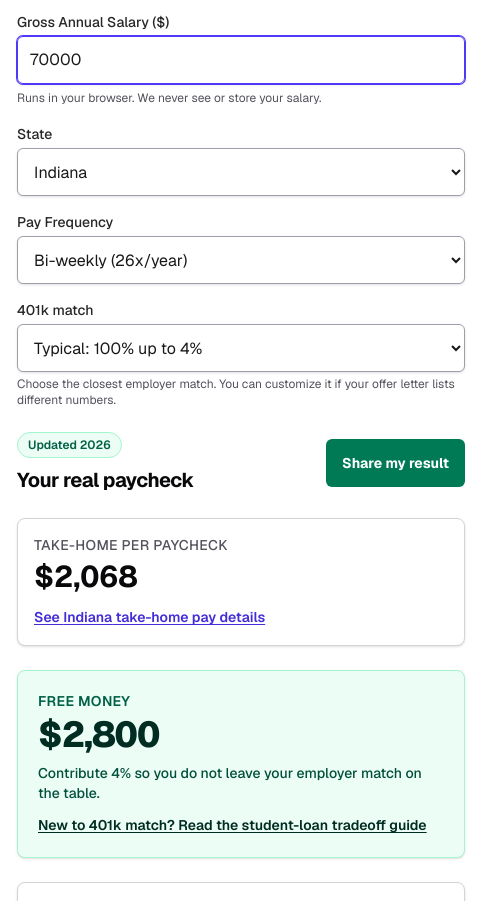
Test case: Calculator › shows privacy copy near salary and an empty-state prompt when salary is cleared
expect the text "Runs in your browser. We never see or store your salary." is shown: met, box left=17, top=90, right=322, bottom=106
Clear the field labelled "Gross Annual Salary ($)" at [241, 60], box left=17, top=36, right=465, bottom=84
Wait 250 ms
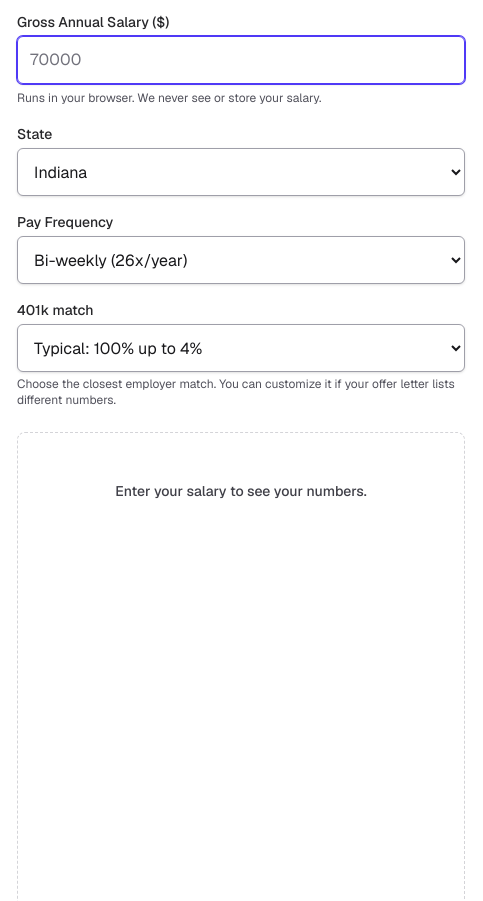
expect the text "Enter your salary to see your numbers." is shown: met, box left=115, top=481, right=367, bottom=501
